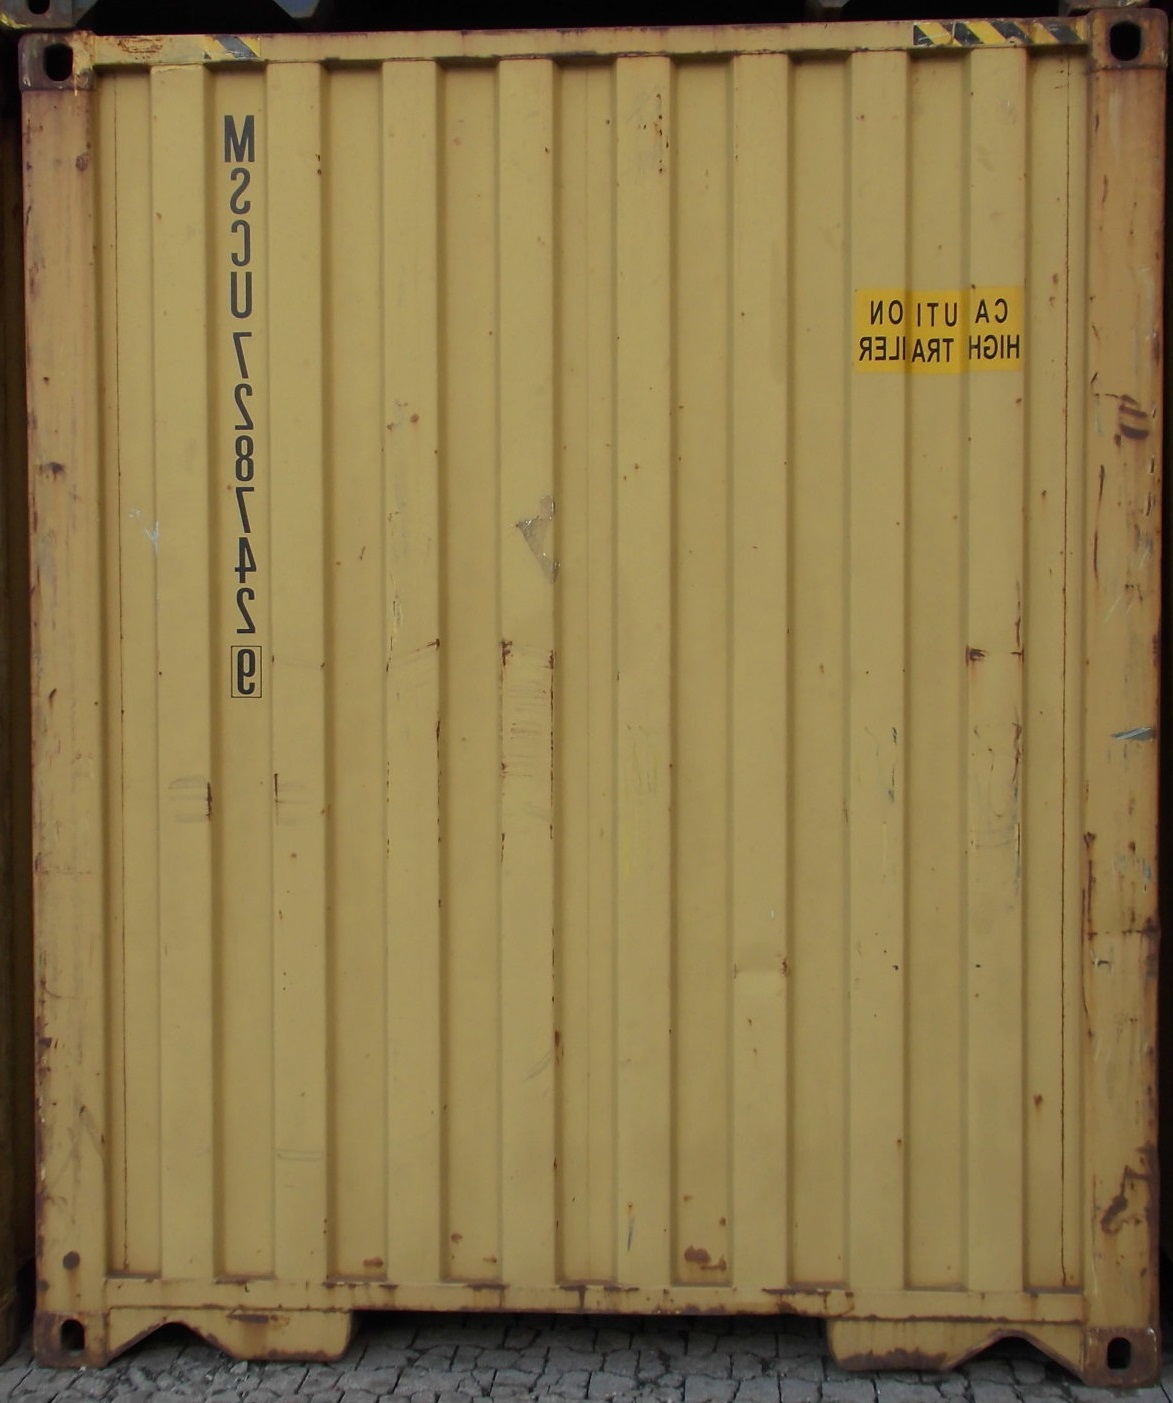container_no_door: (30, 21, 1153, 1380)
